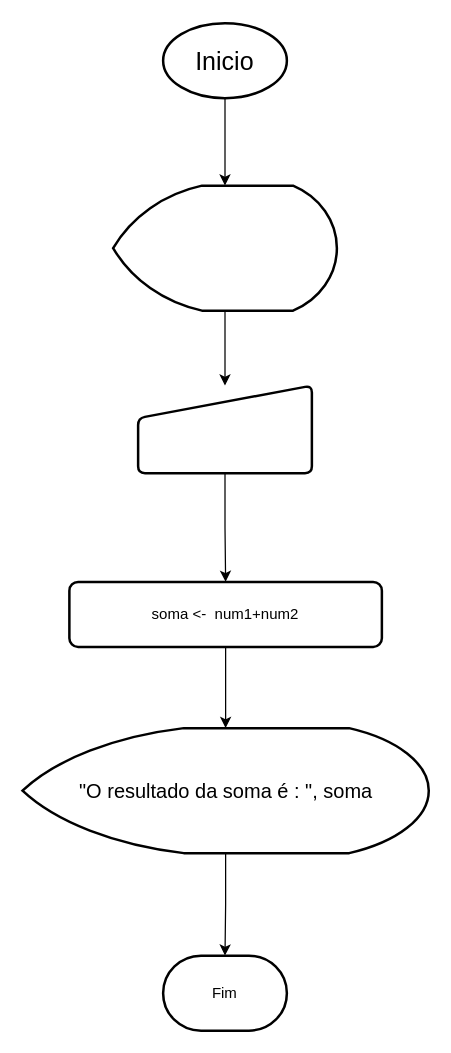
Some shapes in this 451 by 1053 pixel diagram are drawn without their labels. The box of each missing label's shape, as (x1, y1, x2, y2) in pixels:
Informe dois Valores: (111, 184, 338, 311)
num1, num2: (136, 384, 312, 474)
